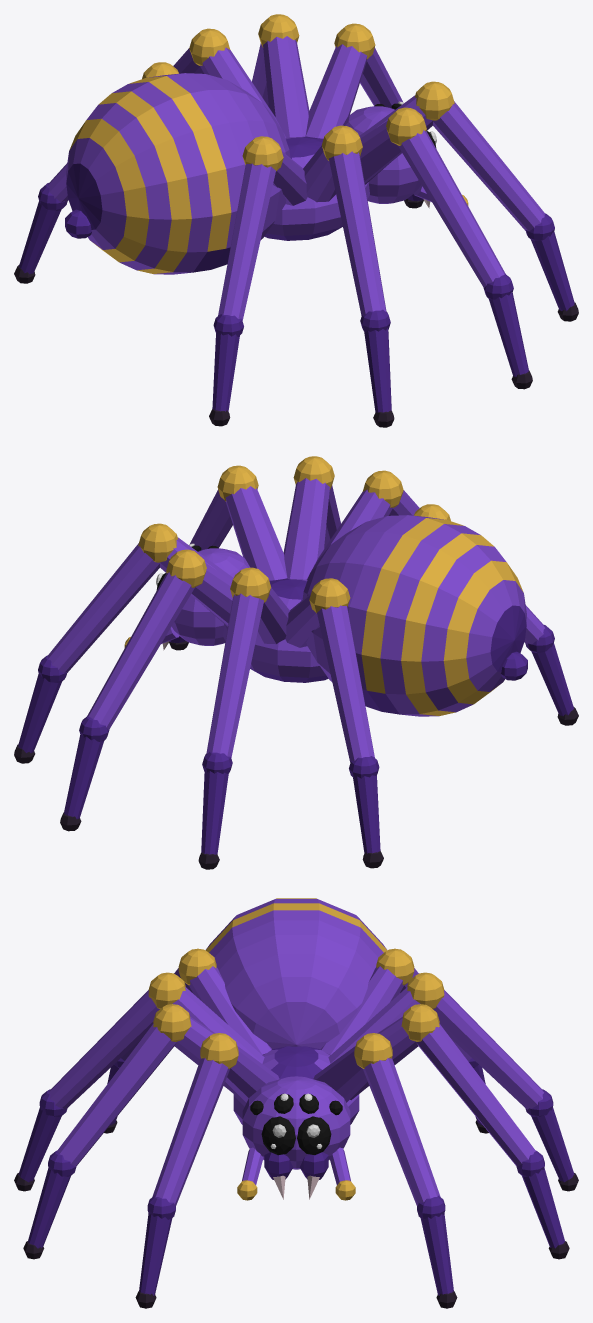
Rendered from spider.glb.
The picture shows the model from 3 angles, top to bottom: view 1: azimuth 30°, elevation 25°; view 2: azimuth 150°, elevation 25°; view 3: azimuth 270°, elevation 25°; orthographic projection. The views are drawn at different scales.
Parts seen in each view (by area): view 1: body, leg_r2, leg_r3, leg_r4, leg_r1, leg_l1, leg_l2, head, leg_l4, leg_l3; view 2: body, leg_l2, leg_l3, leg_l4, leg_l1, leg_r1, leg_r2, head, leg_r4, leg_r3; view 3: body, head, leg_l1, leg_r1, leg_l2, leg_r2, leg_l3, leg_r3, leg_l4, leg_r4.
Boxes of the visible parts, x1,y1,x2,y2 form: body: (65, 73, 369, 274); leg_r2: (360, 107, 532, 389); leg_r3: (303, 125, 394, 427); leg_r4: (209, 136, 307, 426); leg_r1: (359, 81, 578, 321); leg_l1: (305, 23, 423, 208); leg_l2: (252, 14, 309, 137); head: (342, 101, 468, 208); leg_l4: (14, 62, 178, 283); leg_l3: (173, 28, 286, 137); body: (223, 515, 527, 716); leg_l2: (60, 549, 232, 831); leg_l3: (198, 567, 289, 869); leg_l4: (285, 578, 383, 868); leg_l1: (14, 523, 233, 763); leg_r1: (169, 465, 287, 650); leg_r2: (283, 456, 340, 579); head: (124, 543, 250, 650); leg_r4: (414, 504, 578, 725); leg_r3: (306, 470, 419, 579); body: (205, 898, 387, 1124); head: (237, 1076, 355, 1200); leg_l1: (313, 1033, 457, 1308); leg_r1: (135, 1033, 279, 1308); leg_l2: (350, 1004, 569, 1259); leg_r2: (23, 1004, 242, 1259); leg_l3: (328, 972, 578, 1191); leg_r3: (14, 972, 264, 1191); leg_l4: (321, 948, 488, 1133); leg_r4: (104, 948, 271, 1133).
Size of the model in its own units: 2.08 by 1.17 by 2.41.
